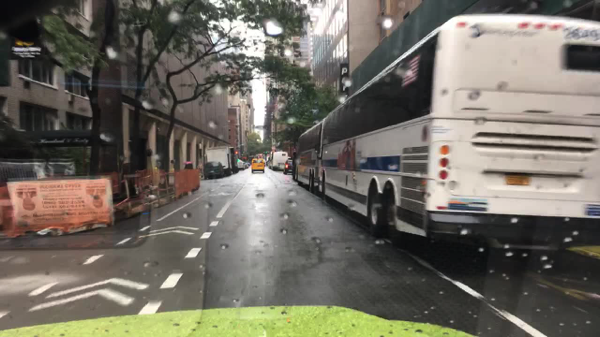bus: (294, 15, 599, 254), (270, 152, 286, 171)
car: (204, 162, 225, 179), (251, 160, 266, 174), (286, 162, 296, 171), (236, 162, 244, 170), (242, 163, 250, 169), (245, 162, 251, 166), (266, 158, 270, 164)
traffic light: (264, 150, 268, 154), (235, 150, 238, 155)
truck: (205, 147, 234, 174)
